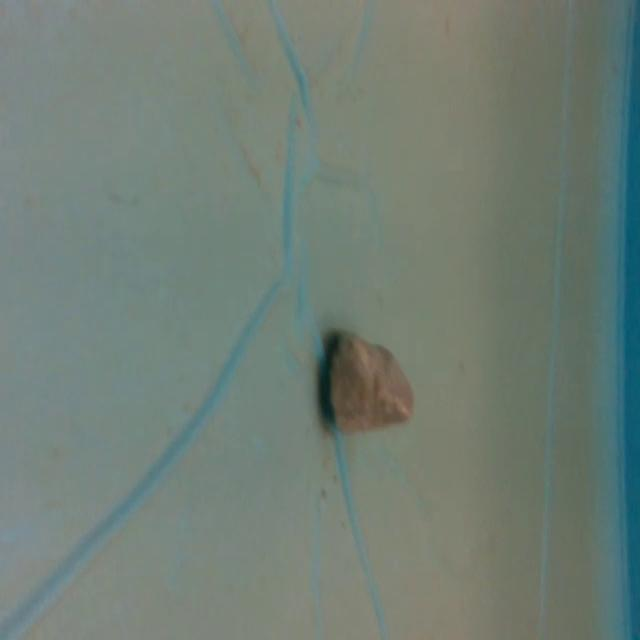rock: (319, 322, 423, 441)
